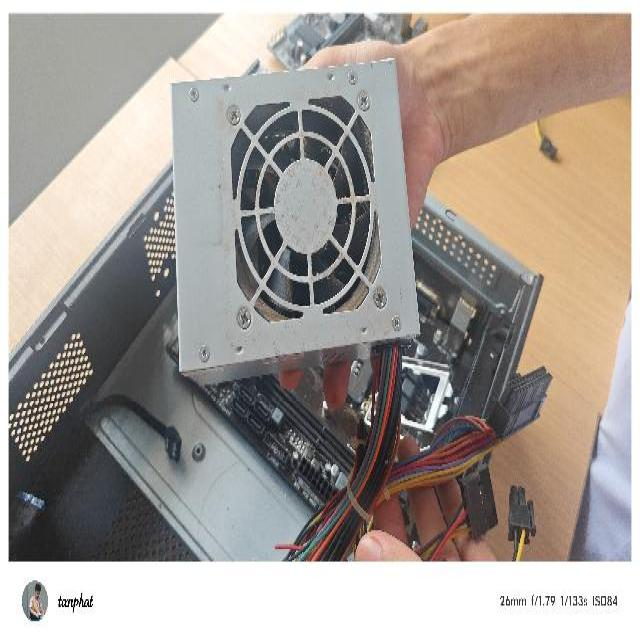PSU: (168, 55, 422, 398)
